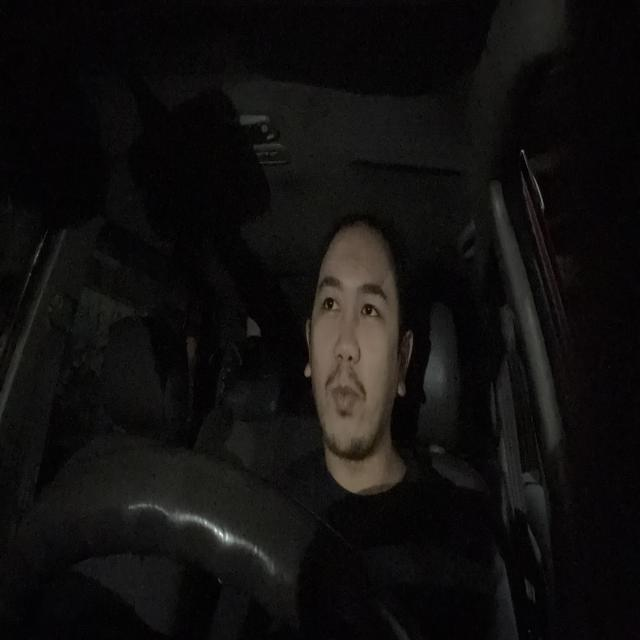open: (357, 275, 389, 336), (316, 274, 346, 323)
